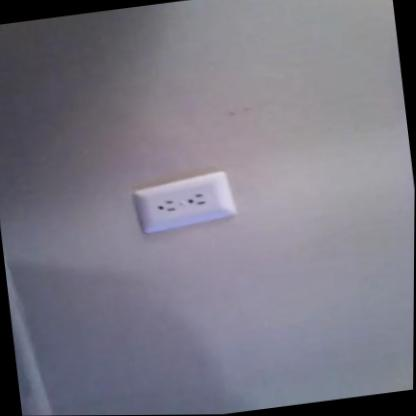OUTLET: (134, 170, 232, 233)
